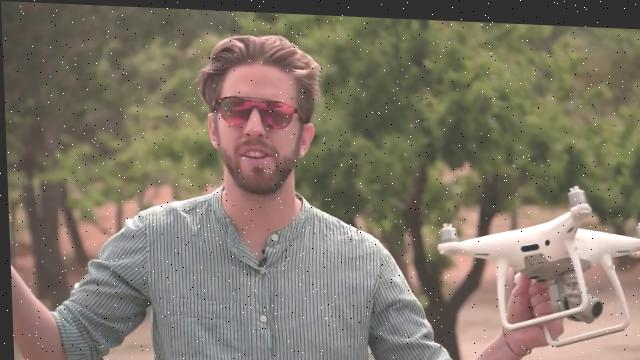drone: (433, 172, 640, 345)
